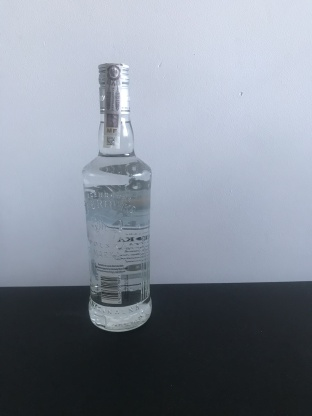nakretka: (95, 59, 133, 116)
